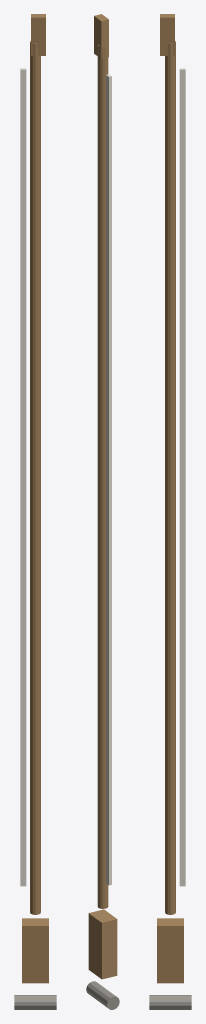
The model's file is bow.glb.
The picture shows the model from 3 angles, left to right: view 1: azimuth 90°, elevation 25°; view 2: azimuth 210°, elevation 25°; view 3: azimuth 270°, elevation 25°; orthographic projection.
Visible parts, largest first — view 1: bow; view 2: bow; view 3: bow.
Boxes of the visible parts, <box> form: bow: <box>14,14,56,1009</box>; bow: <box>86,14,119,1009</box>; bow: <box>149,14,191,1009</box>.
Size of the model in its own units: 0.012 by 0.73 by 0.028.
